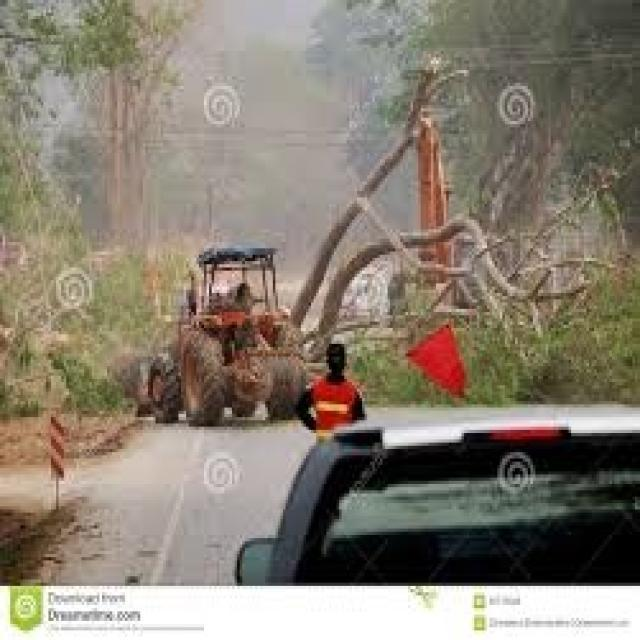fallen_object: (255, 187, 603, 381)
